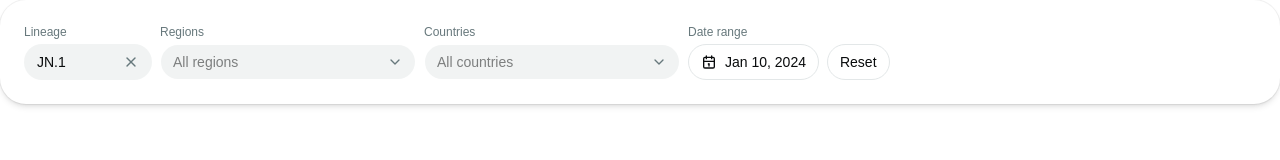
it: FilterBar › resets every filter
Click the button "Reset": click(858, 62) [827,44,890,80]
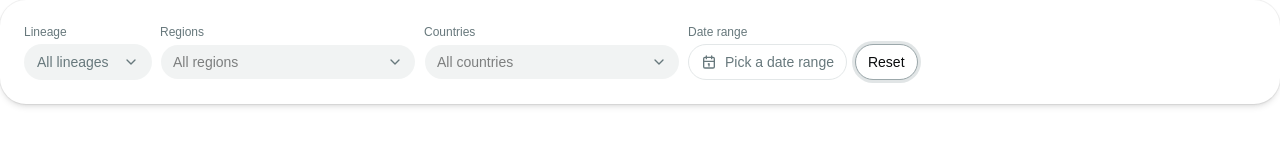
Expected: the button "Pick a date range" is shown, [688,44,847,80]
